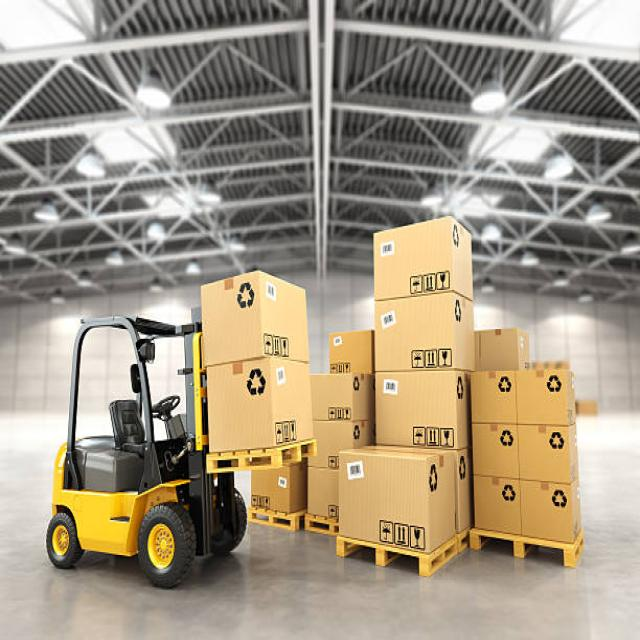Wooden-Pallets: (465, 510, 581, 570), (330, 521, 432, 581), (199, 440, 318, 476), (235, 504, 306, 544)
